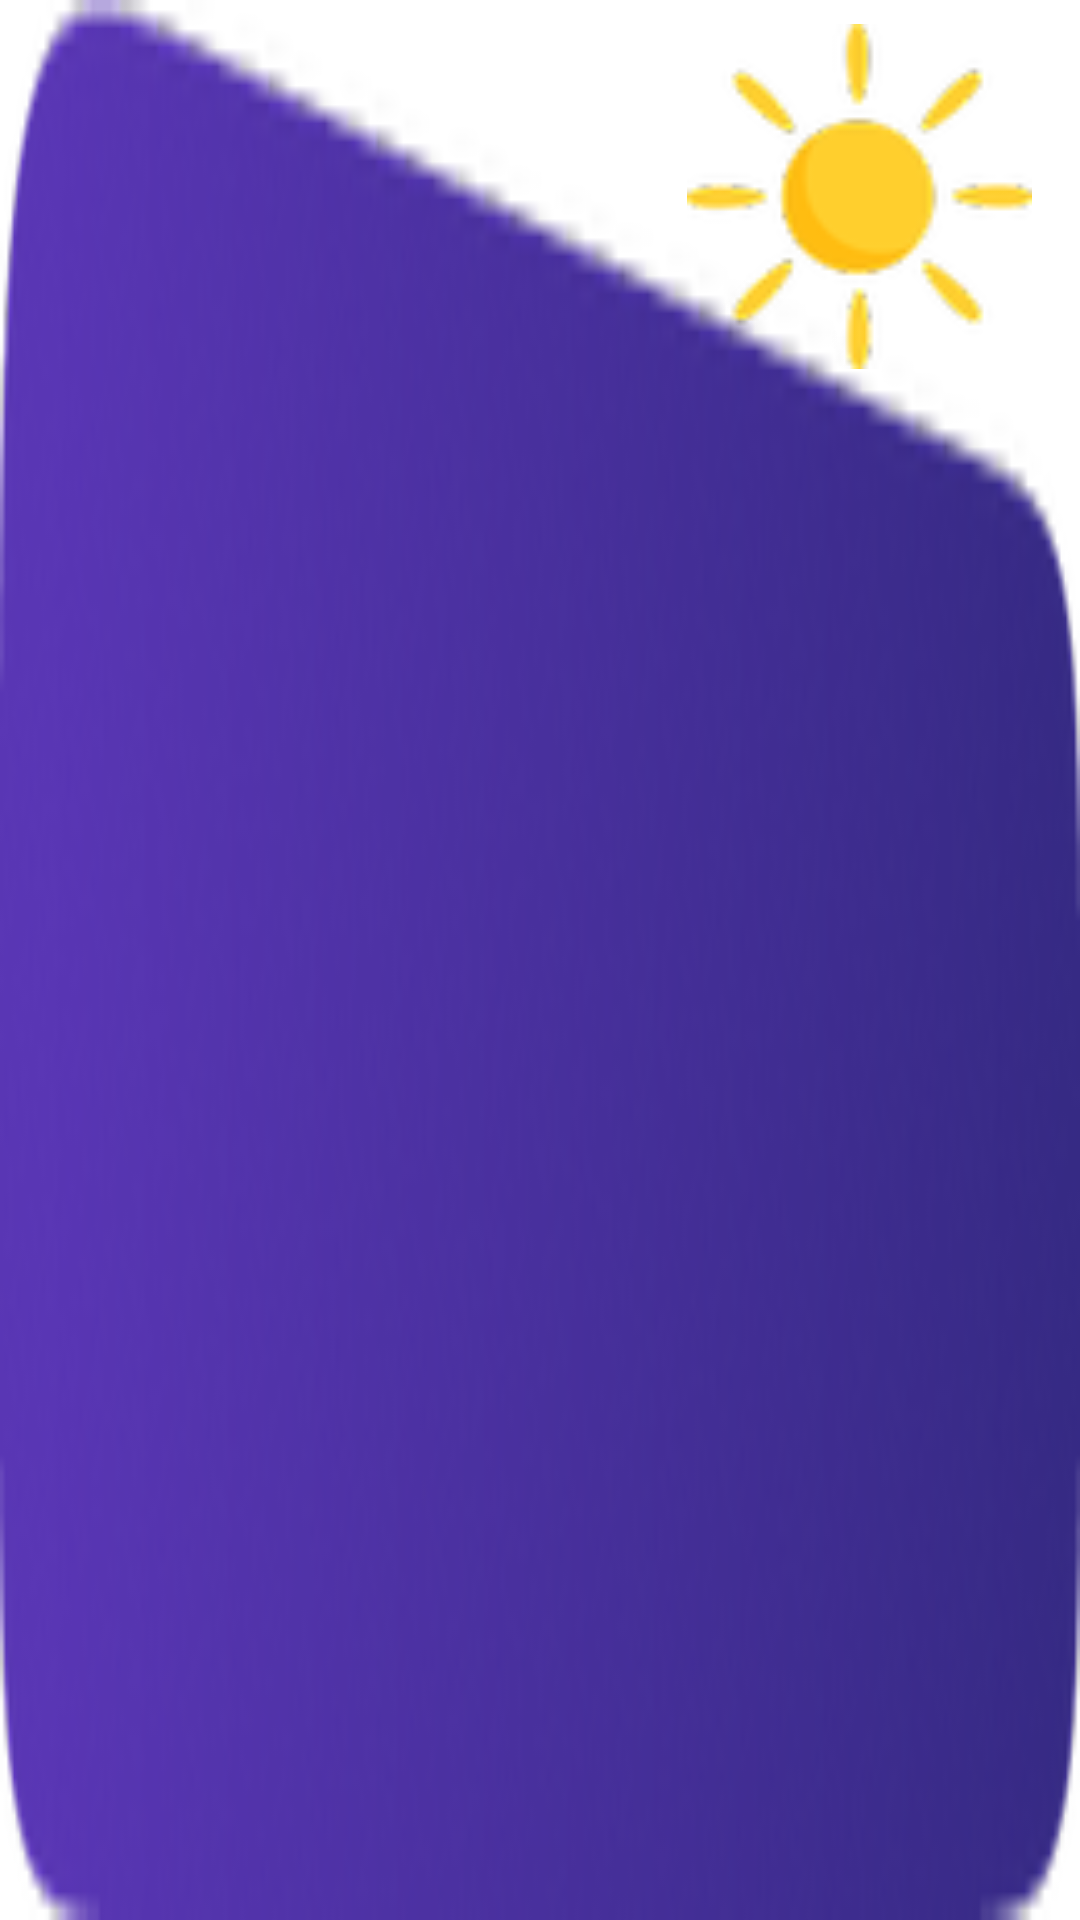

Named icons in this screenshot (1080w x 1920h) and their centers, [x,y]:
Weather state image: [859,196]
